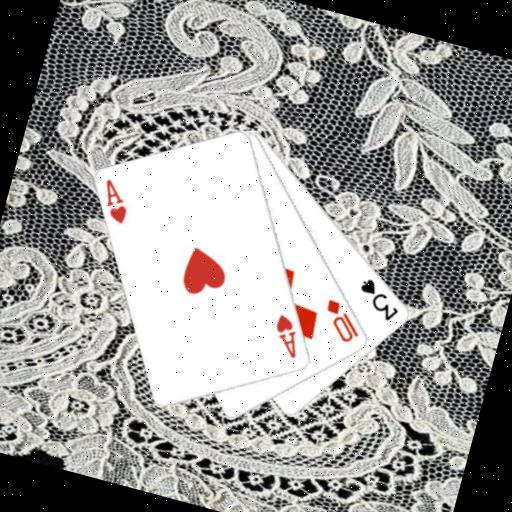10D: (315, 295, 368, 347)
3S: (350, 273, 406, 324)
AH: (93, 174, 137, 226), (265, 309, 308, 361)
